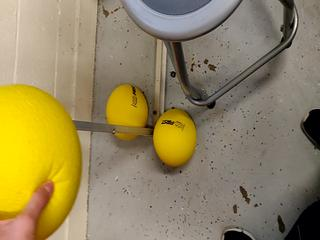power_cell: (1, 79, 83, 240), (146, 106, 201, 167), (98, 81, 153, 142)
